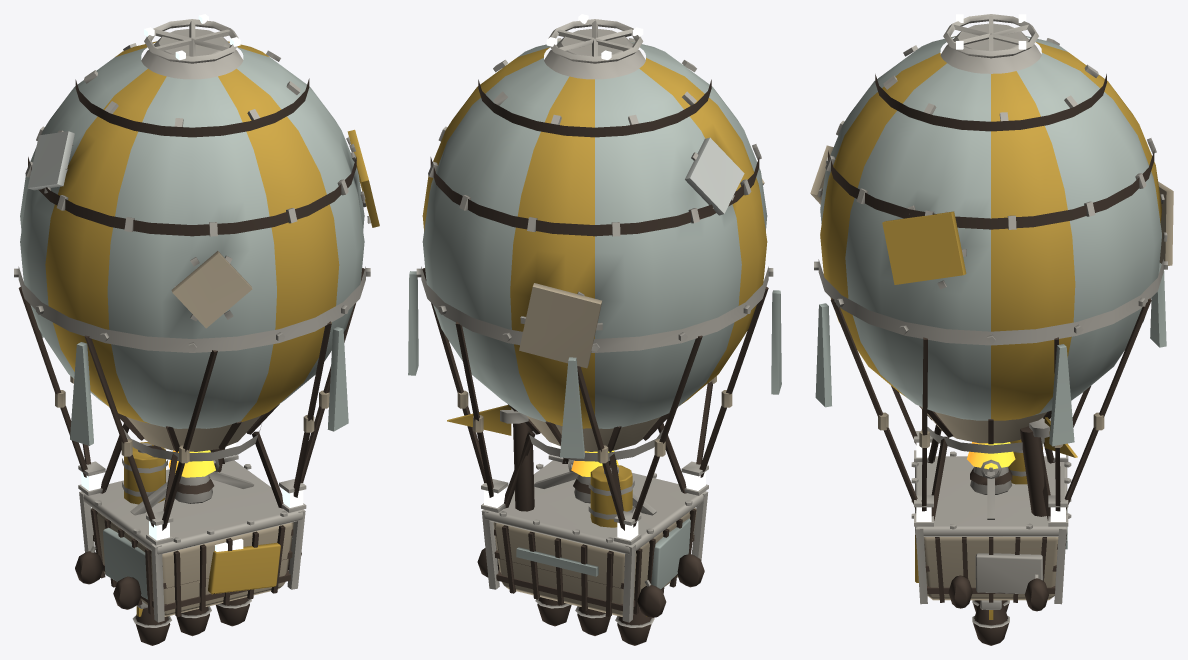
Rendered from balloon.glb.
3 views of the same model, side by side, from view 1: azimuth 30°, elevation 25°; view 2: azimuth 150°, elevation 25°; view 3: azimuth 270°, elevation 25° (orthographic).
Visible parts, largest first — view 1: Envelope, Envelope_stripes, Gondola_rim, Rigging, Load_tape, Envelope_band, Gondola, Streamers, Patches, Side_plates.001, Vent_cap, Wicker_weave (+21 smaller); view 2: Envelope, Envelope_stripes, Gondola_rim, Rigging, Gondola, Load_tape, Patches, Streamers, Envelope_band, Wicker_weave, Vent_cap, Patches.001 (+20 smaller); view 3: Envelope, Envelope_stripes, Gondola_rim, Rigging, Load_tape, Patches.002, Envelope_band, Streamers, Gondola, Vent_cap, Side_plates.002, Skirt (+16 smaller).
Boxes of the visible parts, left/top/right/bottom form: Envelope: left=20, top=47, right=364, bottom=428; Envelope_stripes: left=45, top=41, right=339, bottom=423; Gondola_rim: left=82, top=460, right=302, bottom=554; Rigging: left=18, top=268, right=364, bottom=530; Load_tape: left=28, top=78, right=356, bottom=236; Envelope_band: left=18, top=266, right=365, bottom=352; Gondola: left=90, top=508, right=293, bottom=616; Streamers: left=40, top=327, right=348, bottom=445; Patches: left=171, top=251, right=252, bottom=328; Side_plates.001: left=208, top=543, right=280, bottom=594; Vent_cap: left=141, top=29, right=243, bottom=79; Wicker_weave: left=91, top=509, right=285, bottom=617; Envelope: left=422, top=41, right=767, bottom=428; Envelope_stripes: left=422, top=47, right=767, bottom=428; Gondola_rim: left=484, top=460, right=704, bottom=554; Rigging: left=422, top=268, right=768, bottom=530; Gondola: left=493, top=507, right=696, bottom=616; Load_tape: left=430, top=79, right=759, bottom=236; Patches: left=519, top=179, right=764, bottom=368; Streamers: left=408, top=271, right=781, bottom=458; Envelope_band: left=421, top=266, right=768, bottom=352; Wicker_weave: left=502, top=509, right=696, bottom=617; Vent_cap: left=544, top=29, right=645, bottom=79; Patches.001: left=685, top=137, right=744, bottom=215; Envelope: left=820, top=36, right=1161, bottom=420; Envelope_stripes: left=820, top=36, right=1161, bottom=420; Gondola_rim: left=915, top=456, right=1067, bottom=536; Rigging: left=830, top=298, right=1151, bottom=520; Load_tape: left=828, top=74, right=1154, bottom=229; Patches.002: left=882, top=211, right=966, bottom=284; Envelope_band: left=818, top=259, right=1163, bottom=345; Streamers: left=815, top=263, right=1166, bottom=446; Gondola: left=924, top=537, right=1058, bottom=600; Vent_cap: left=940, top=23, right=1041, bottom=73; Side_plates.002: left=975, top=553, right=1043, bottom=593; Skirt: left=920, top=406, right=1046, bottom=443.
Bounding box in the file's own units: 2.36 × 4.32 × 2.38.
